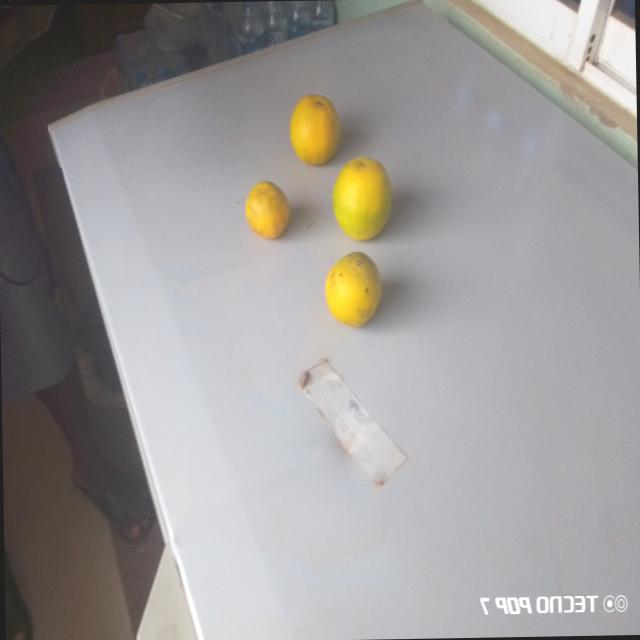Ripe orange: (318, 244, 388, 330), (331, 150, 396, 241), (283, 91, 352, 168), (240, 173, 302, 238)
